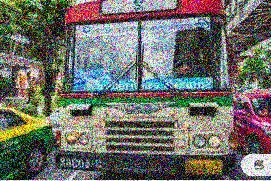bus: (55, 0, 237, 174)
